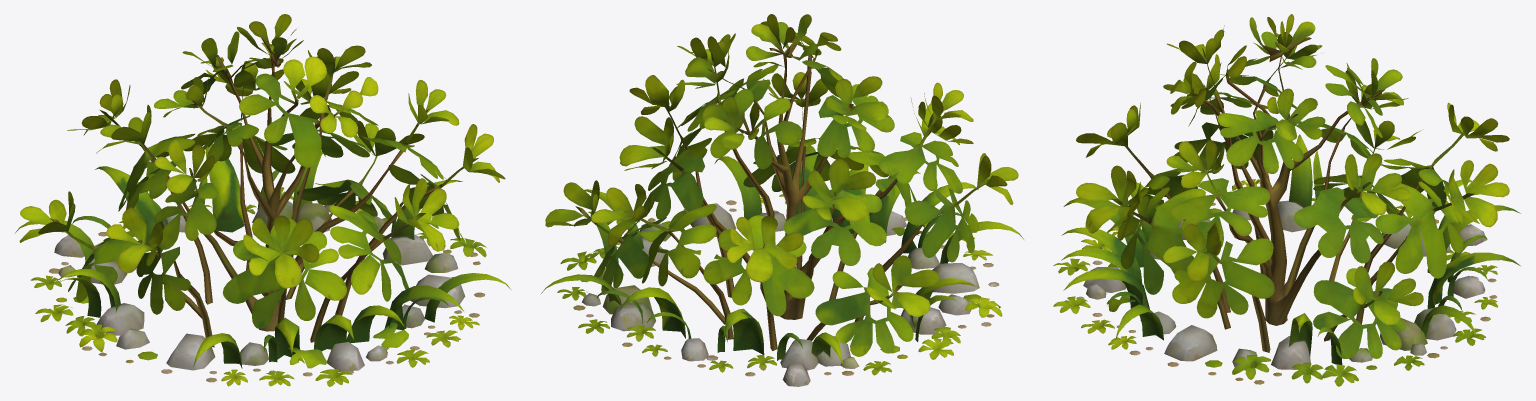
Rendered from plantitas_1.glb.
3 views of the same model, side by side, from view 1: azimuth 30°, elevation 25°; view 2: azimuth 150°, elevation 25°; view 3: azimuth 270°, elevation 25° (orthographic). The views are drawn at different scales.
Visible parts, largest first — view 1: tripo_node_8944e1b6-e153-4c9e-84d2-1b5c33ffe388; view 2: tripo_node_8944e1b6-e153-4c9e-84d2-1b5c33ffe388; view 3: tripo_node_8944e1b6-e153-4c9e-84d2-1b5c33ffe388.
Part boxes in pixels (x1=…): tripo_node_8944e1b6-e153-4c9e-84d2-1b5c33ffe388: x1=14, y1=14, x2=510, y2=386; tripo_node_8944e1b6-e153-4c9e-84d2-1b5c33ffe388: x1=541, y1=14, x2=1023, y2=386; tripo_node_8944e1b6-e153-4c9e-84d2-1b5c33ffe388: x1=1053, y1=14, x2=1520, y2=386.
Size of the model in its own units: 0.9995 by 0.7183 by 0.9976.
1 material, 1 textured.
